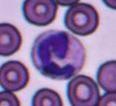N: (31, 29, 85, 79)
